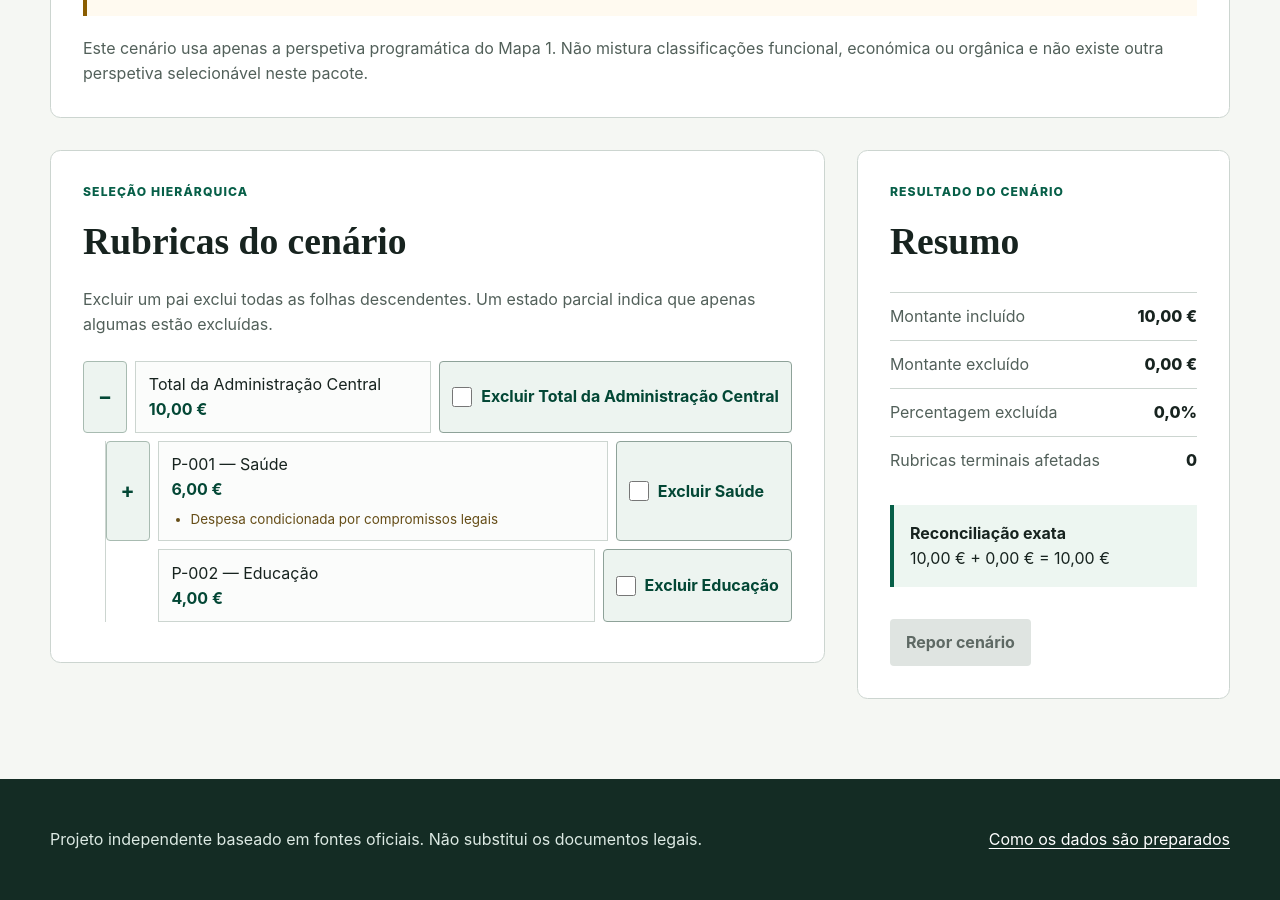
Test: SimulatorPage › seleciona folhas, marca o pai parcial e reconcilia o painel
The width and height of the screenshot is (1280, 900).
(page scrolled)
Check: the heading "Rubricas do cenário" is shown, box [83, 221, 407, 262]
Click the button named "Expandir Saúde" at coordinates (128, 491), box [106, 441, 150, 541]
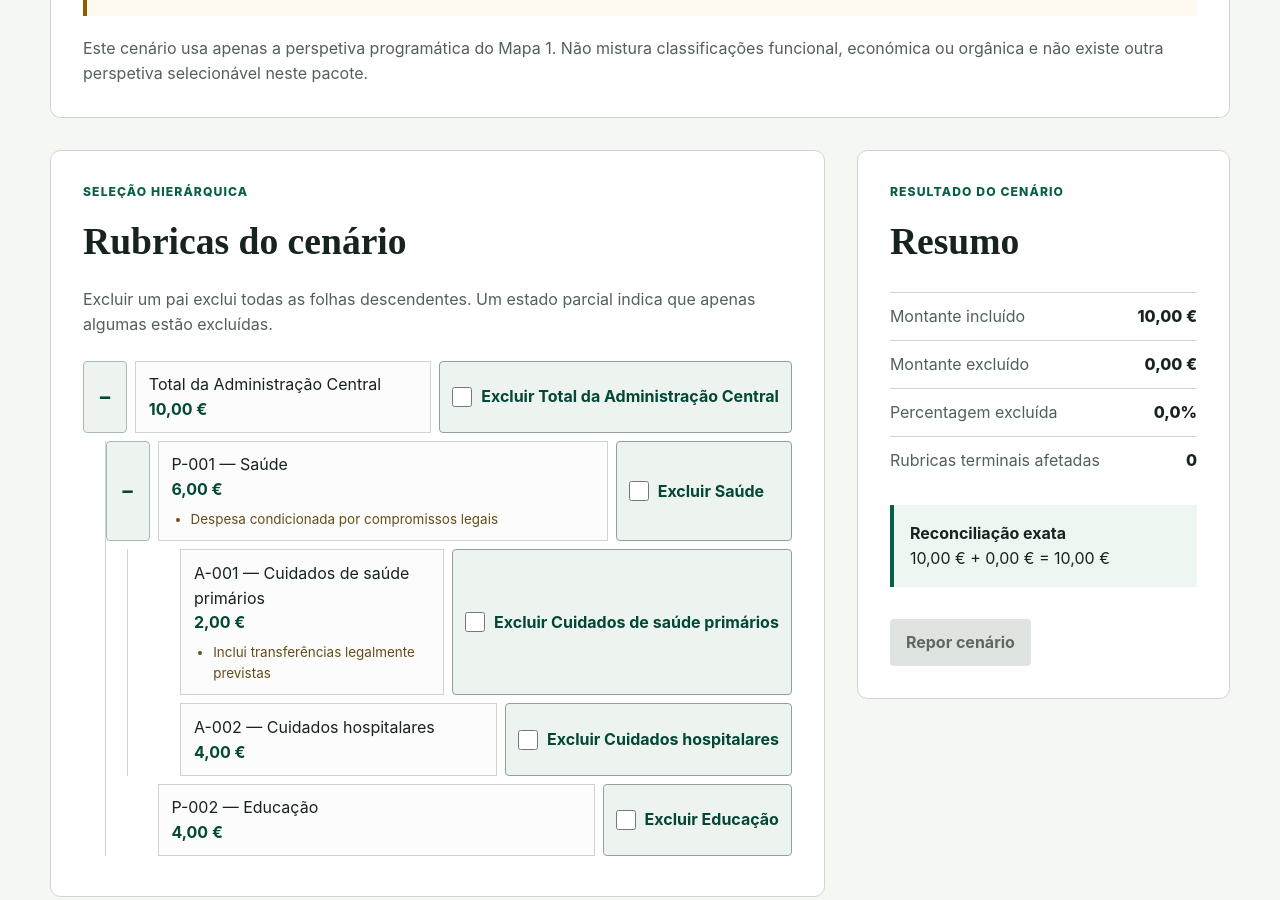
Click the checkbox labelled "Excluir Cuidados de saúde primários" at coordinates (475, 622), box [465, 612, 485, 632]
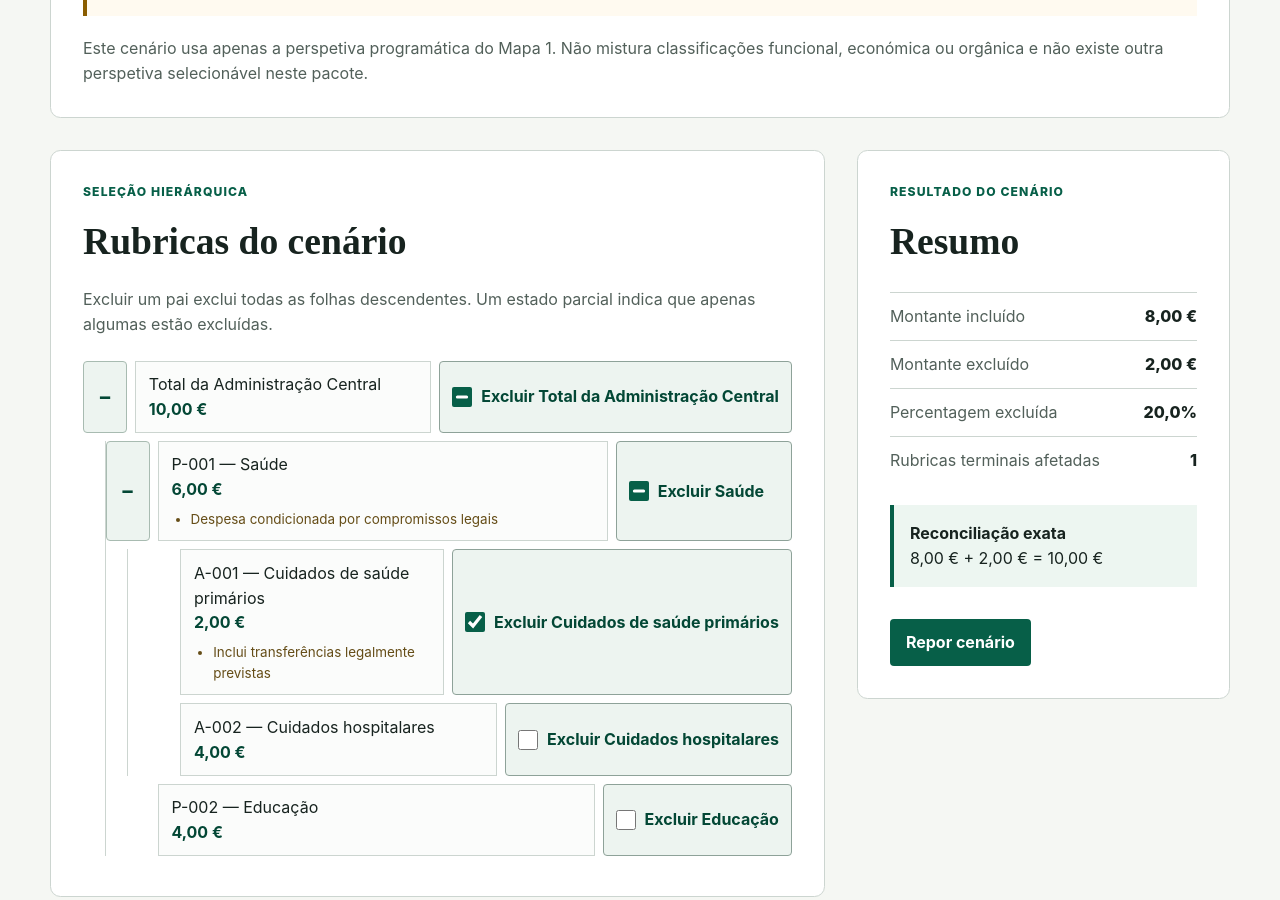
Check: the text "1" is shown, box [1190, 448, 1197, 473]
Check: the text "Reconciliação exata8,00 € + 2,00 € = 10,00 €" is shown, box [890, 505, 1197, 587]
